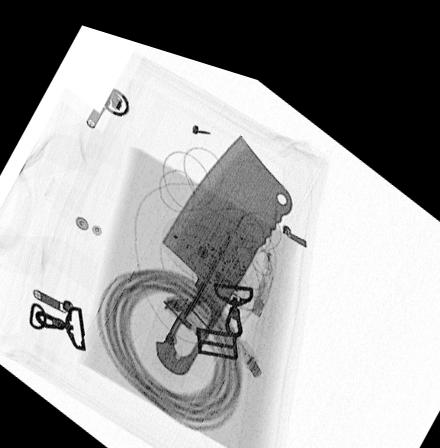Knife: (153, 117, 295, 365)
